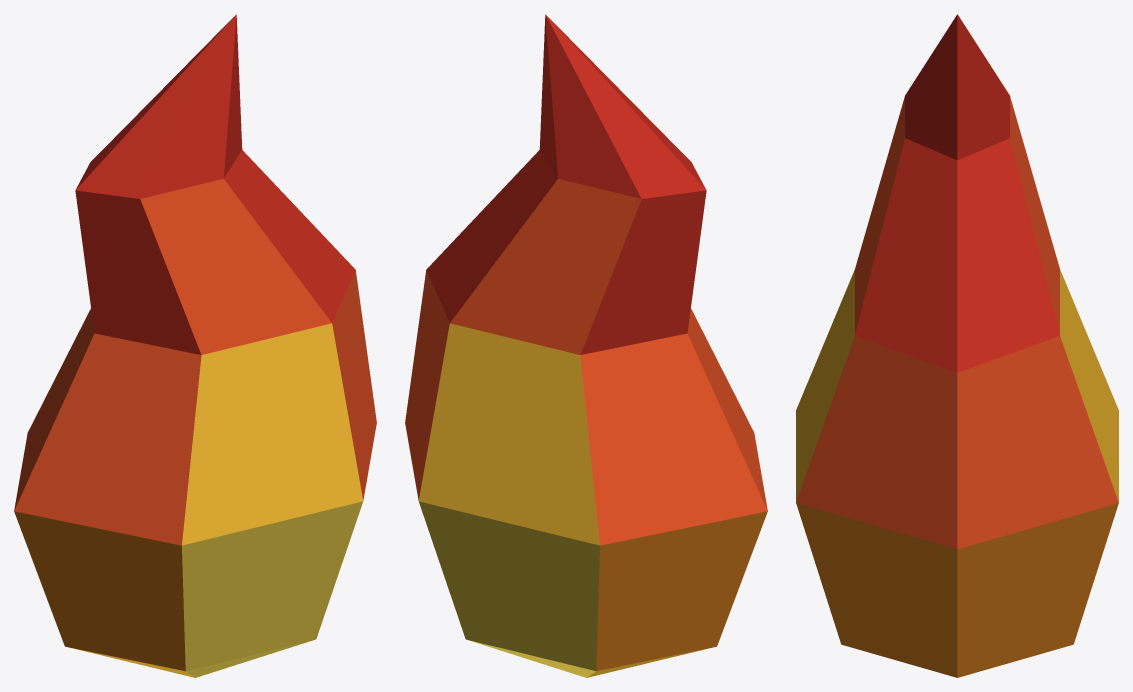
File: flame.glb
The picture shows the model from 3 angles, left to right: view 1: azimuth 30°, elevation 25°; view 2: azimuth 150°, elevation 25°; view 3: azimuth 270°, elevation 25°; orthographic projection. The views are drawn at different scales.
Parts seen in each view (by area): view 1: Flame; view 2: Flame; view 3: Flame.
Boxes of the visible parts, x1=… form: Flame: x1=14, y1=14, x2=376, y2=677; Flame: x1=405, y1=14, x2=767, y2=677; Flame: x1=796, y1=14, x2=1118, y2=677.
Size of the model in its own units: 0.36 by 0.62 by 0.265.
